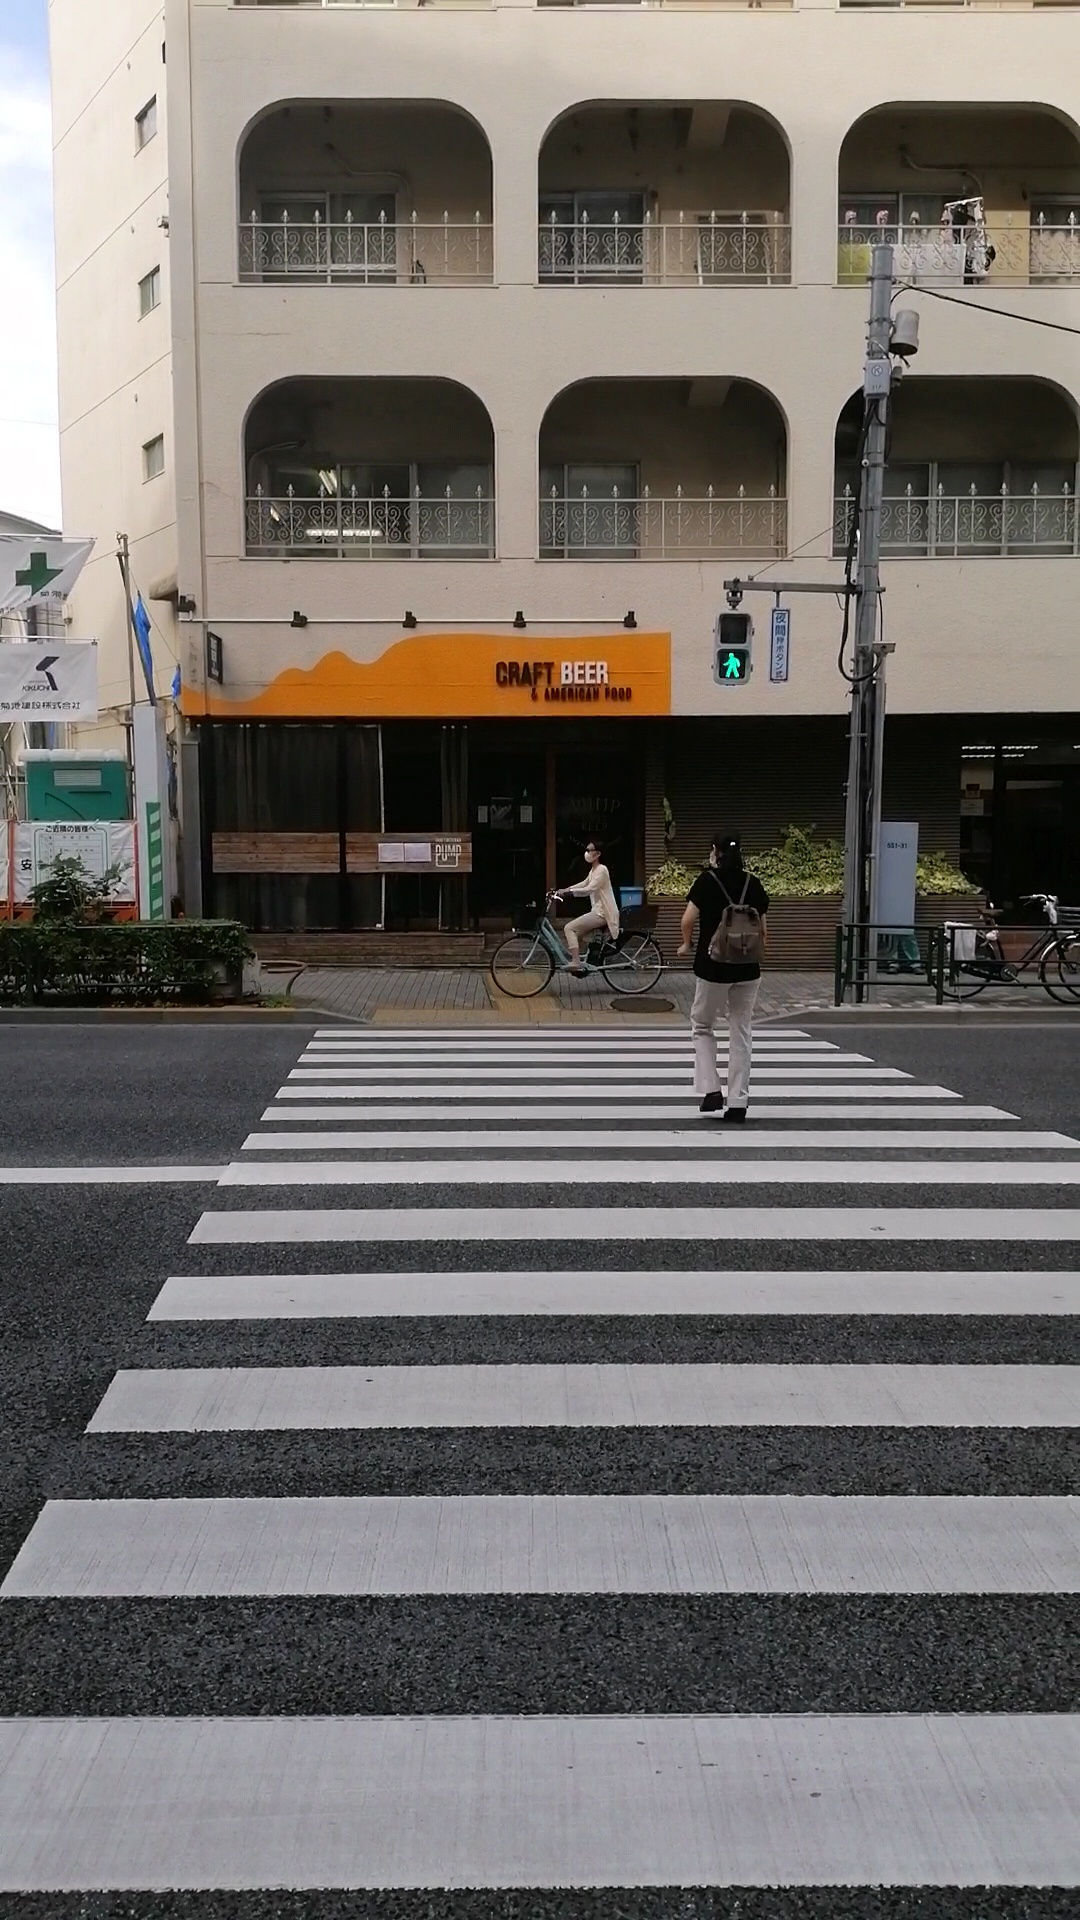green: (713, 611, 753, 684)
